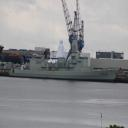Fragata: (9, 52, 122, 84)
